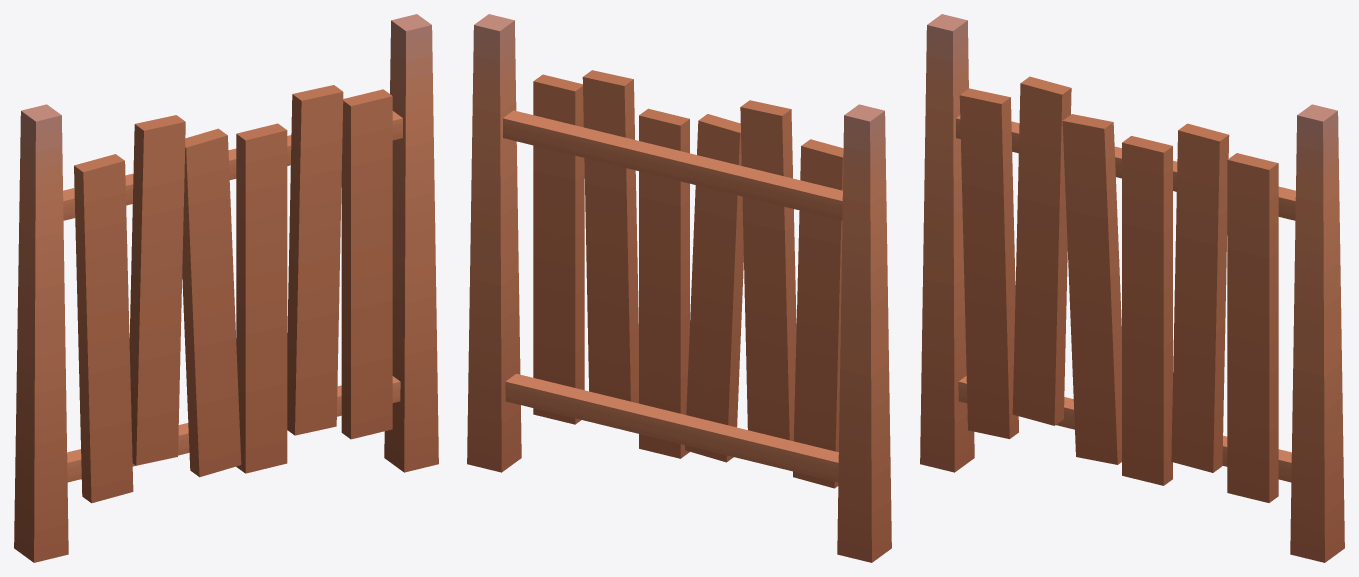
The model's file is fence-fortified.glb.
3 views of the same model, side by side, from view 1: azimuth 30°, elevation 25°; view 2: azimuth 150°, elevation 25°; view 3: azimuth 330°, elevation 25° (orthographic).
Visible parts, largest first — view 1: fence-fortified; view 2: fence-fortified; view 3: fence-fortified.
Boxes of the visible parts, x1,y1,x2,y2 form: fence-fortified: [14, 14, 438, 562]; fence-fortified: [467, 14, 891, 562]; fence-fortified: [920, 14, 1344, 562].
Bounding box in the file's own units: 0.5 × 0.5175 × 0.053.
Materials: 1 (1 with a texture image).
